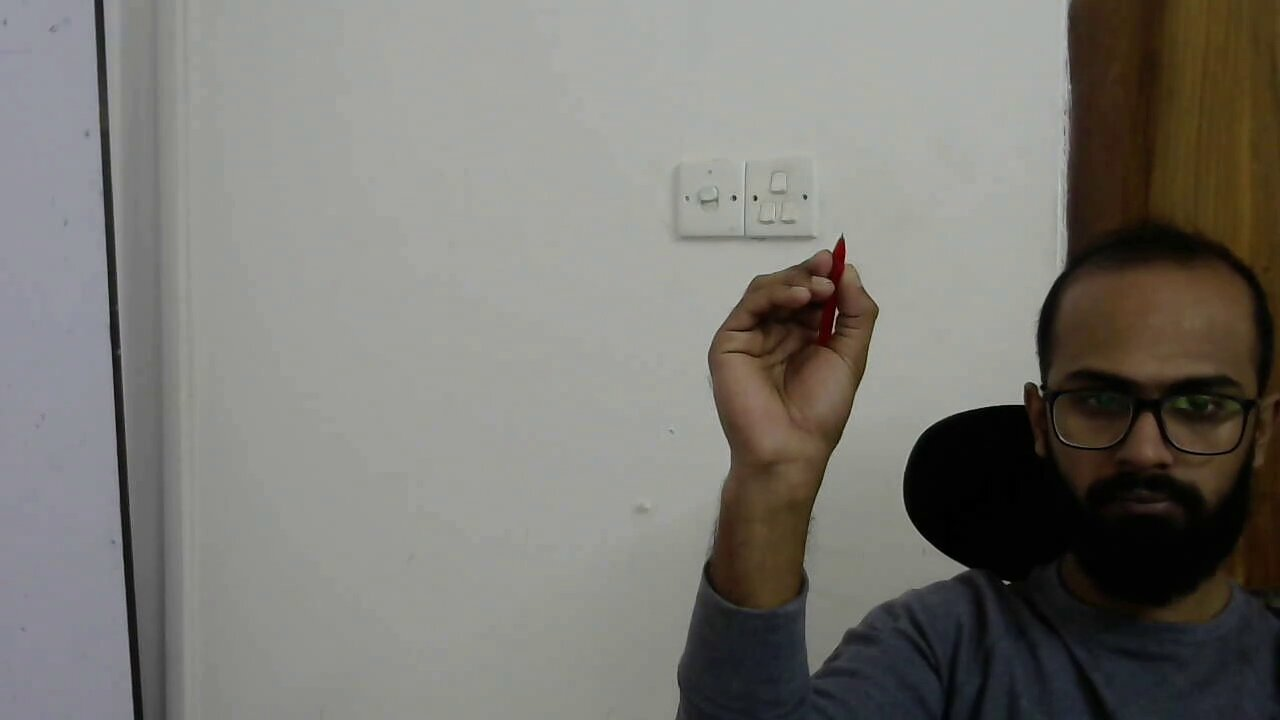pointer: (725, 244, 885, 361)
